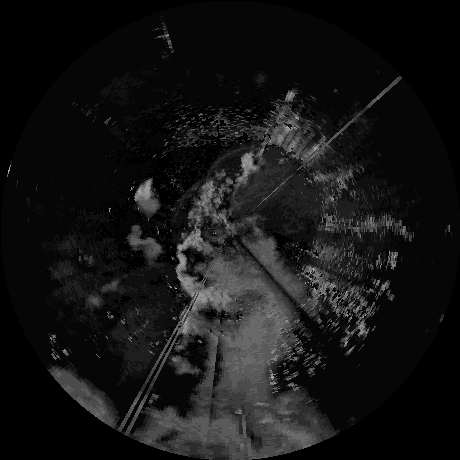frontgust: (208, 146, 252, 173), (174, 180, 201, 213)
